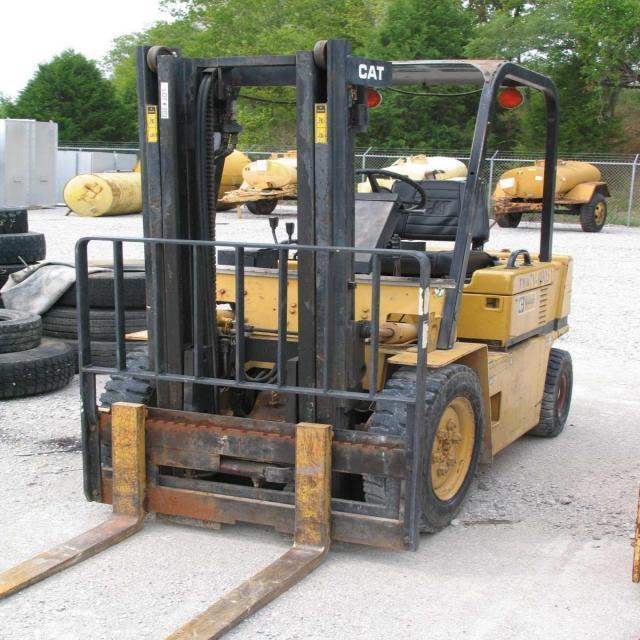forklift: (0, 38, 575, 640)
